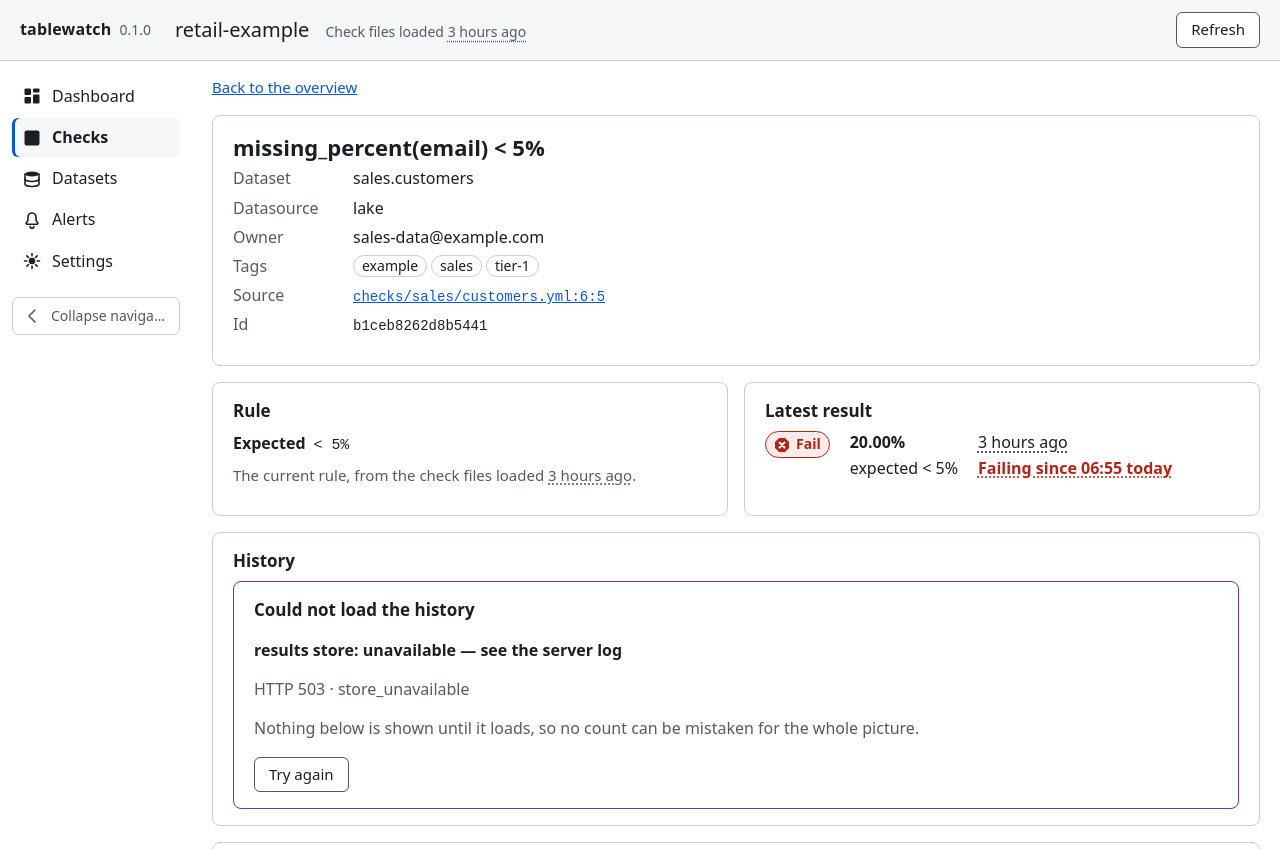
D15: failures and unknown checks › recovers on Try again
This screenshot has width=1280, height=849.
Click the button "Try again": x=301, y=774 254,756 -> 348,792
(page scrolled)
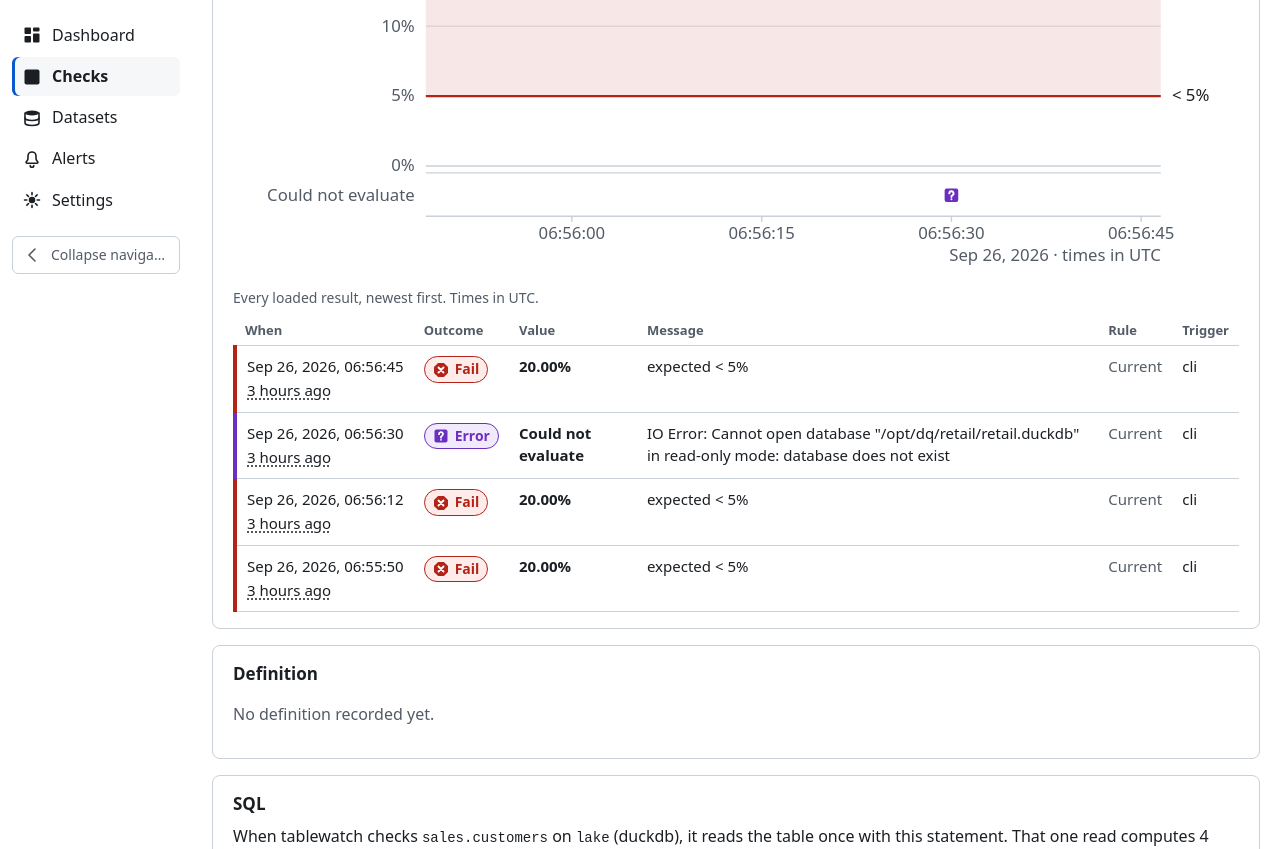
Result: the table is shown at 233,288 -> 1239,612
Result: the message "Could not load the history results store: unavailable — see the server log HTTP" is gone
